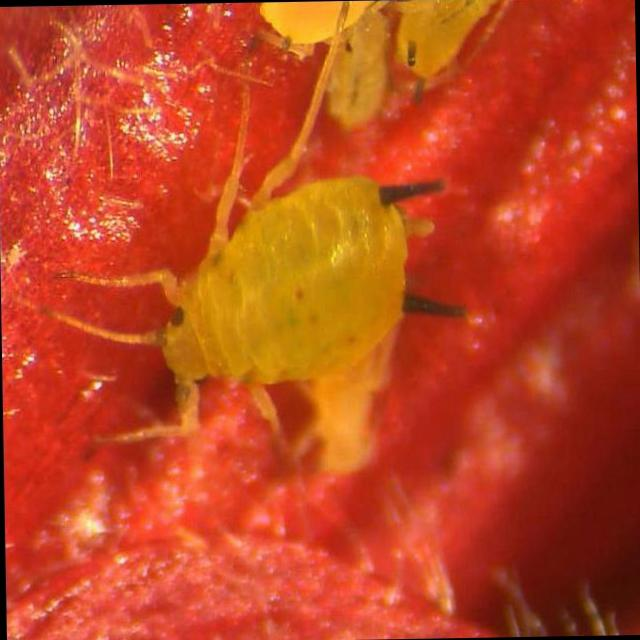aphid: (31, 43, 456, 536)
